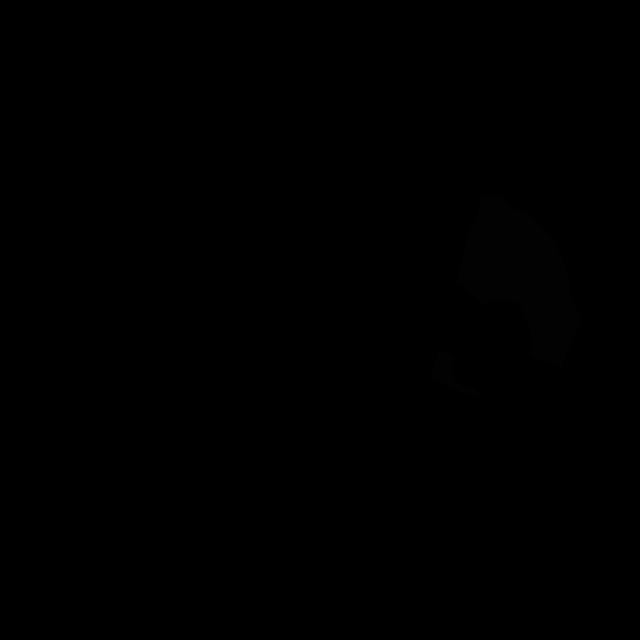cardboard: (457, 193, 581, 368), (431, 348, 481, 397)
